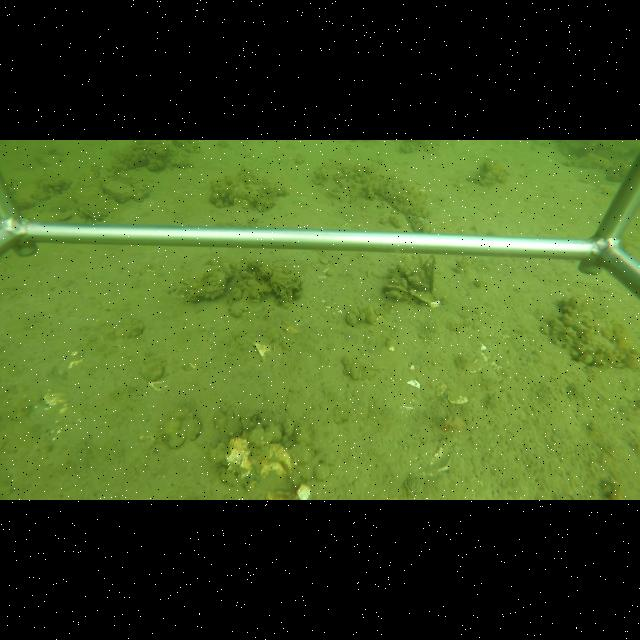Oyster-Closed: (182, 263, 228, 301), (76, 197, 110, 221), (100, 178, 136, 200), (410, 287, 436, 305), (384, 280, 408, 296), (409, 278, 429, 290)
